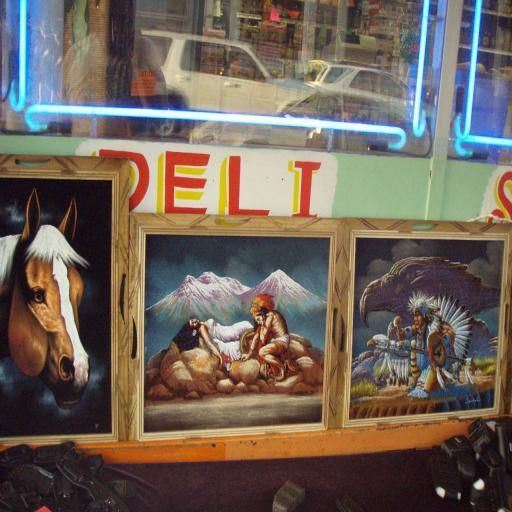Horse: (0, 188, 91, 409)
